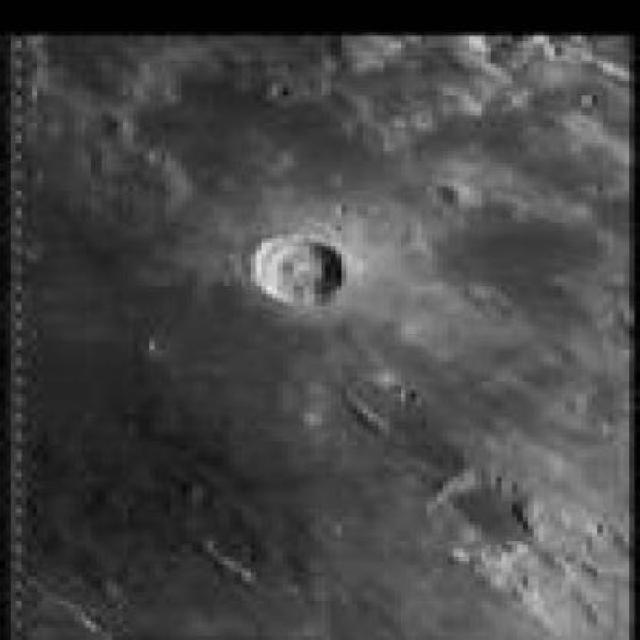crater: (252, 234, 342, 306)
